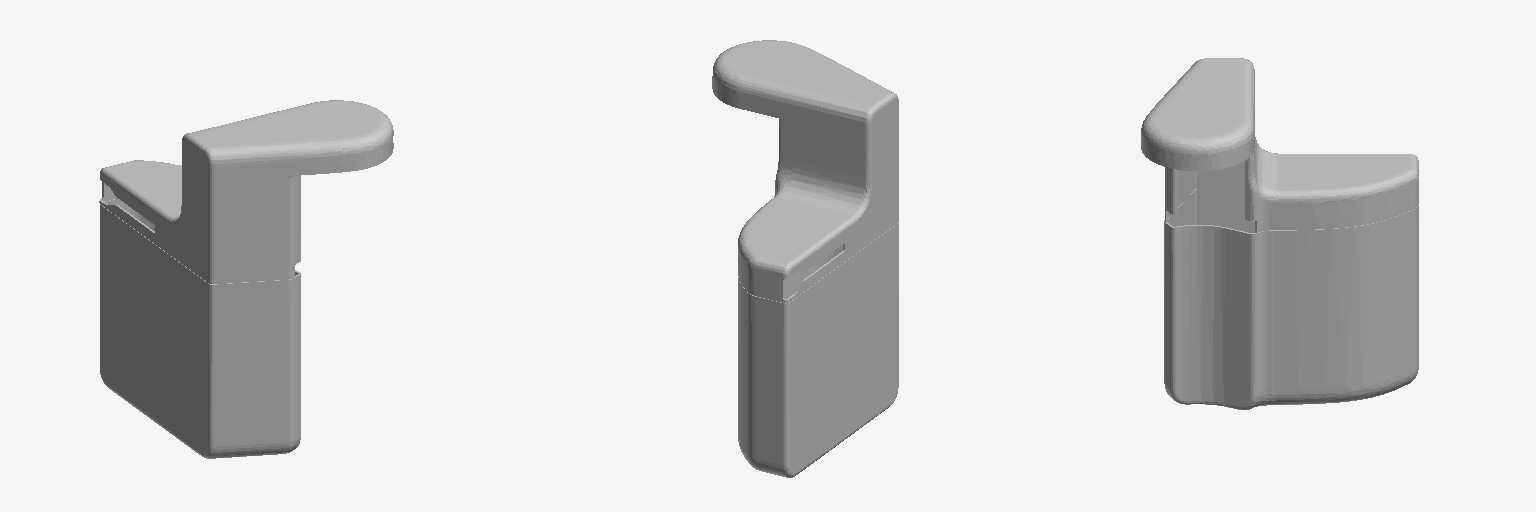
Rendered from Shoulder.obj.
3 views of the same model, side by side, from view 1: azimuth 30°, elevation 25°; view 2: azimuth 150°, elevation 25°; view 3: azimuth 270°, elevation 25° (orthographic).
Visible parts, largest first — view 1: Shoulder; view 2: Shoulder; view 3: Shoulder.
Part boxes in pixels (bbox=[...]): Shoulder: bbox=[99, 100, 393, 458]; Shoulder: bbox=[712, 40, 898, 477]; Shoulder: bbox=[1141, 58, 1418, 409].
Size of the model in its own units: 0.1301 by 0.2183 by 0.176.